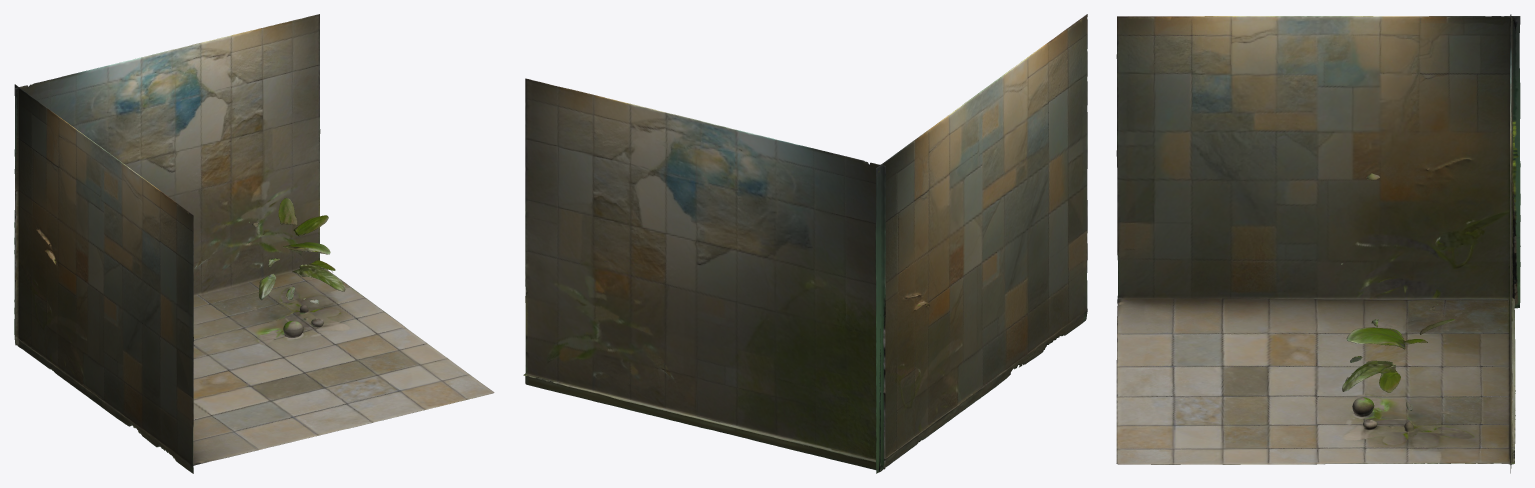
Rendered from Meshy_AI_a_stone_tile_at_a_goo_1115233204_texture.glb.
3 renders of one model, left to right at view 1: azimuth 30°, elevation 25°; view 2: azimuth 150°, elevation 25°; view 3: azimuth 270°, elevation 25°, orthographic. The views are drawn at different scales.
Bounding box in the file's own units: 1.97 × 1.6 × 2.
Materials: 1 (1 with a texture image).
